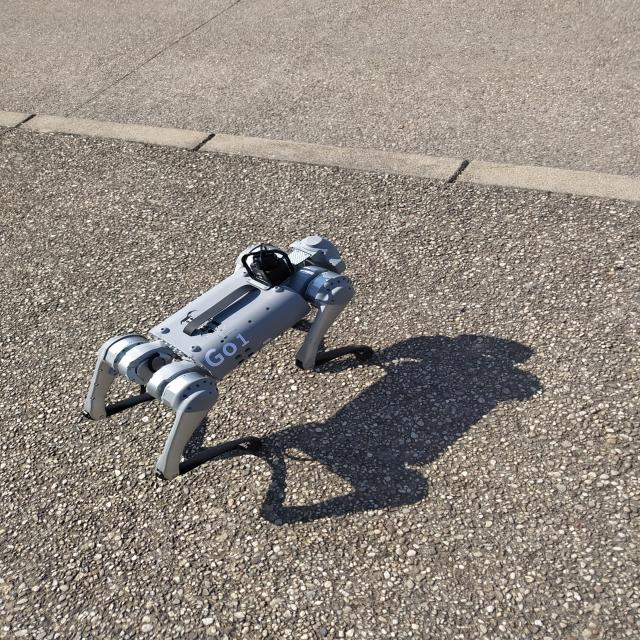unitree-go1-robot: (85, 238, 379, 478)
